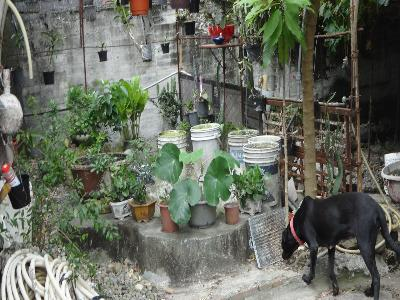bucket: (243, 141, 281, 204), (190, 122, 222, 159)
